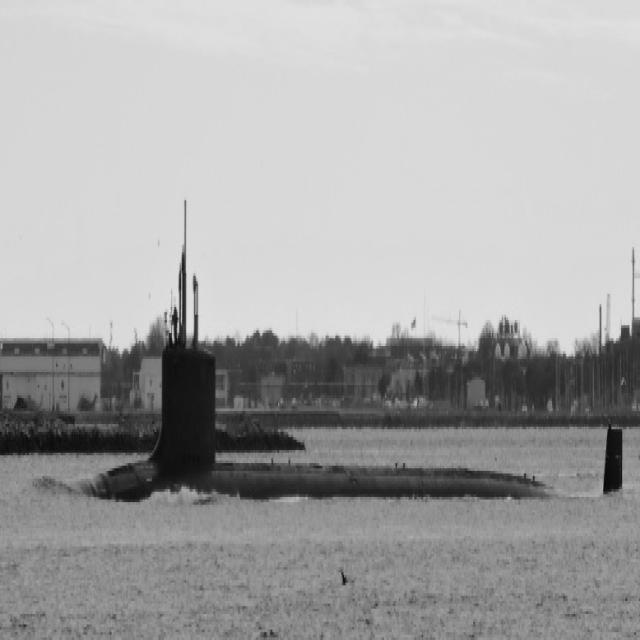submarine: (88, 350, 618, 503)
